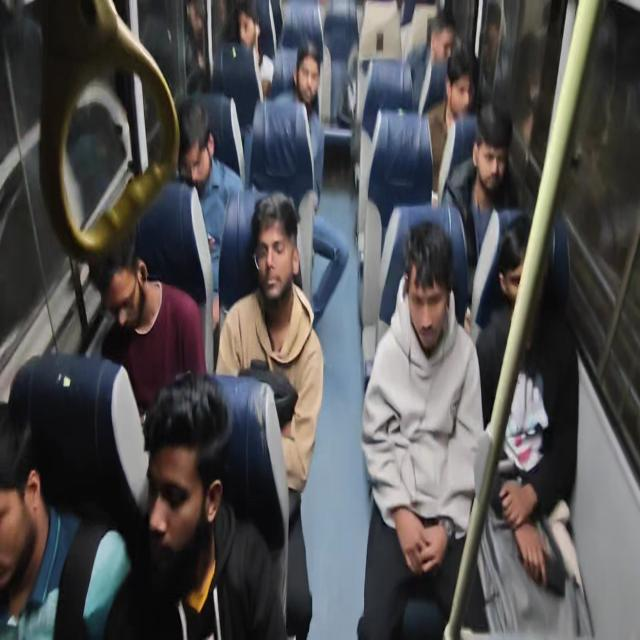person: (5, 0, 587, 638), (356, 219, 484, 638), (102, 372, 289, 639), (214, 191, 324, 638), (474, 213, 580, 636), (0, 403, 131, 639), (7, 350, 150, 532), (87, 228, 206, 418), (441, 100, 518, 329), (177, 97, 244, 319), (274, 43, 326, 205), (425, 44, 477, 205), (222, 0, 274, 101), (406, 10, 456, 113)
